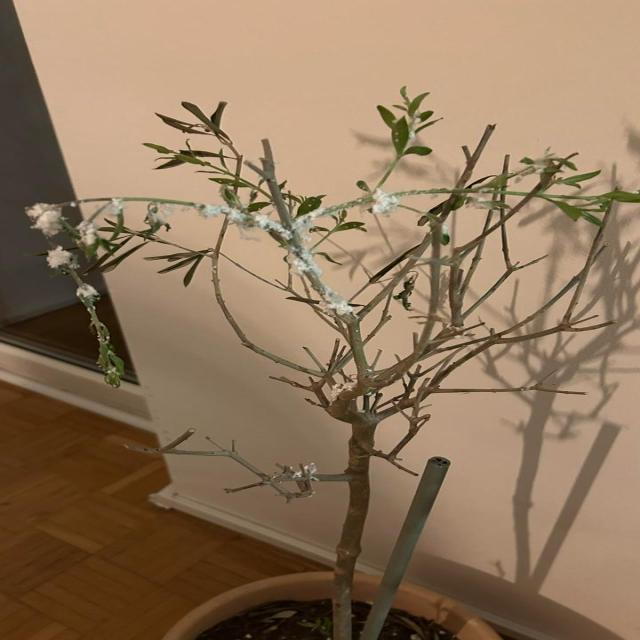Psyllid: (26, 203, 136, 388), (293, 176, 495, 232), (270, 228, 361, 317), (155, 200, 287, 239), (76, 198, 126, 250), (282, 463, 318, 498)
